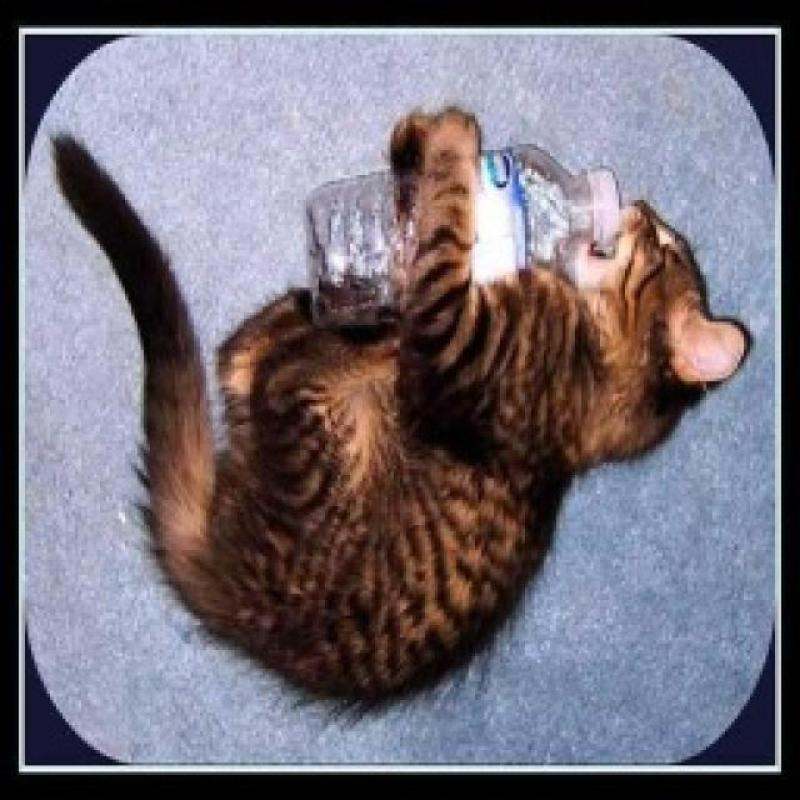botella: (303, 142, 622, 302)
